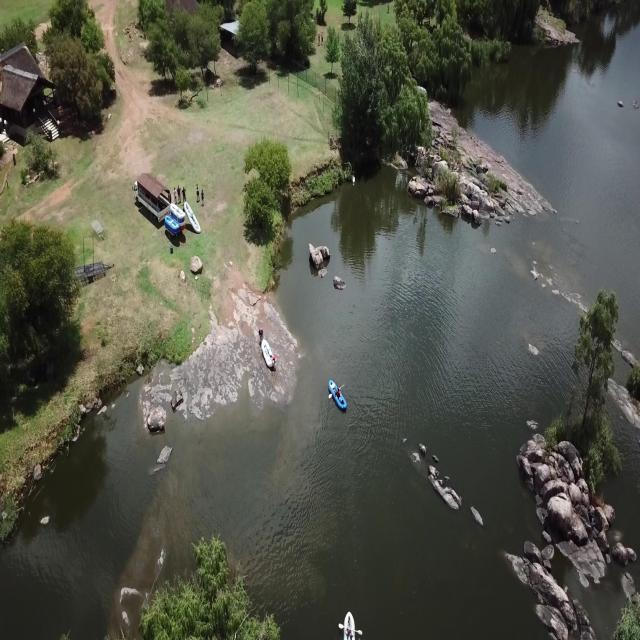kayak: (327, 375, 348, 417)
